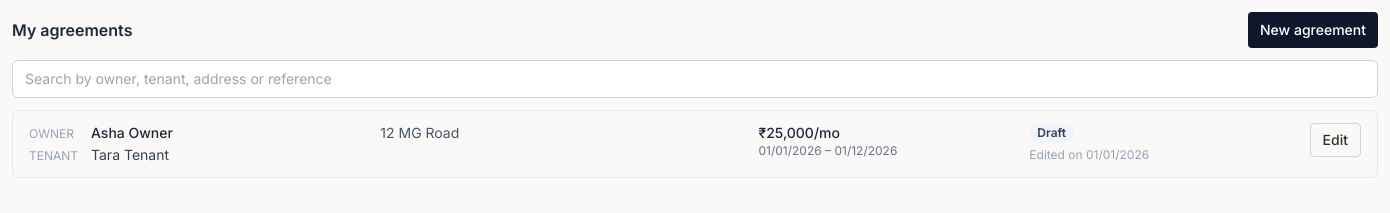
Test: MyAgreements › rich rows › says nothing matches and writes the query nowhere
Type "koramangala" into the search field with test id "list-search".
click(695, 79); type("koramangala")  # box x1=12 y1=60 x2=1378 y2=98
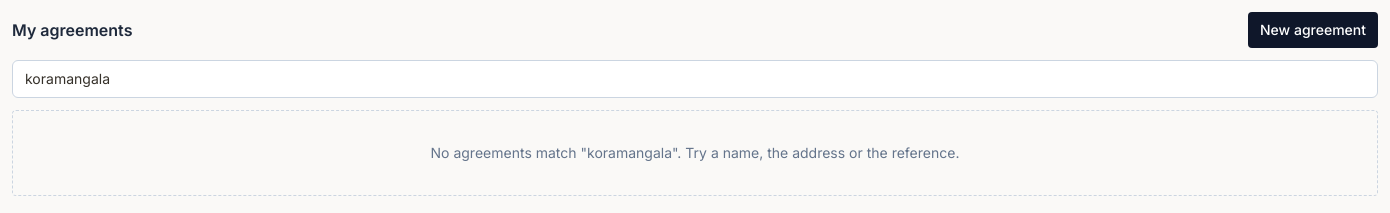
expect the text with test id "list-no-match" shows "No agreements match \"koramangala\"": met, box x1=430 y1=144 x2=959 y2=161
expect the text with test id "list-no-match" shows "Try a name, the address or the reference": met, box x1=430 y1=144 x2=959 y2=161
